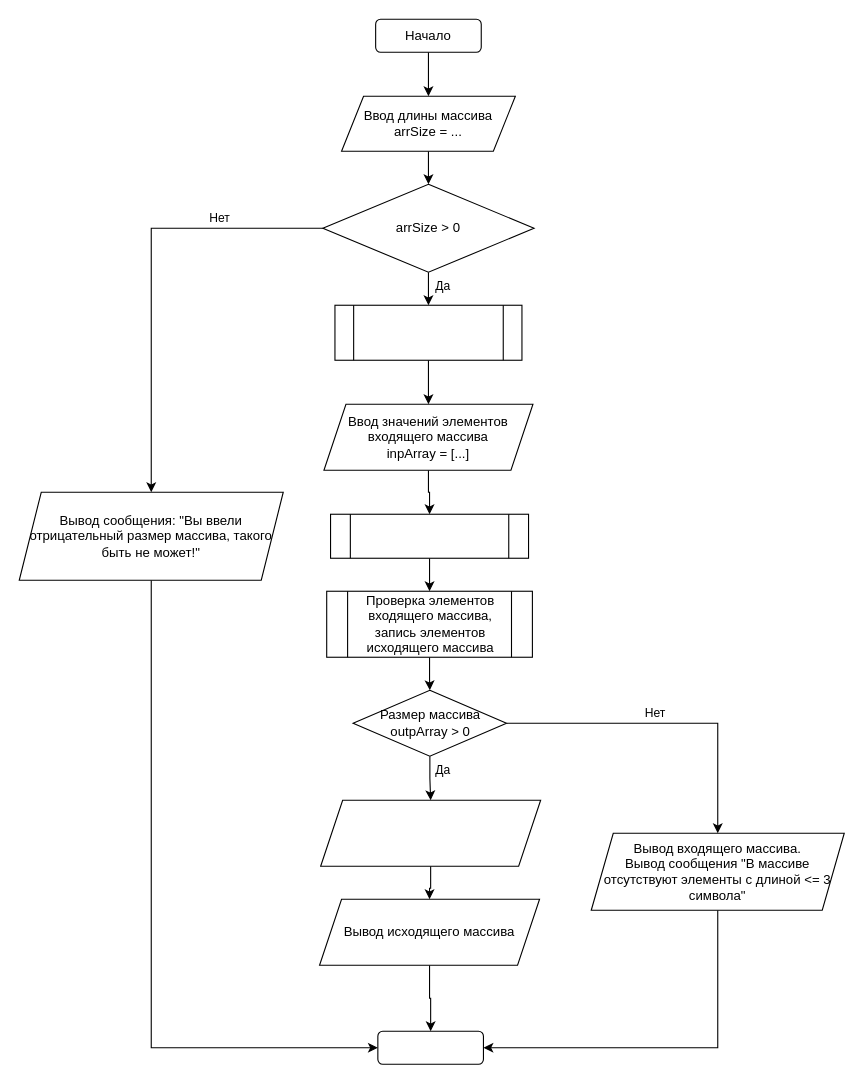
Some shapes in this 864 by 1084 pixel diagram are drawn without their labels. The shapes that lost their labels are listed below. From the top down, each one's box as (x1, y1, x2, y2) in pixels, then its label:
(334, 304, 522, 360): Создание входящего массива inpArray
(329, 513, 529, 558): Создание исходящего массива outpArray
(320, 799, 541, 866): Вывод входящего массива
(377, 1030, 483, 1064): Конец
